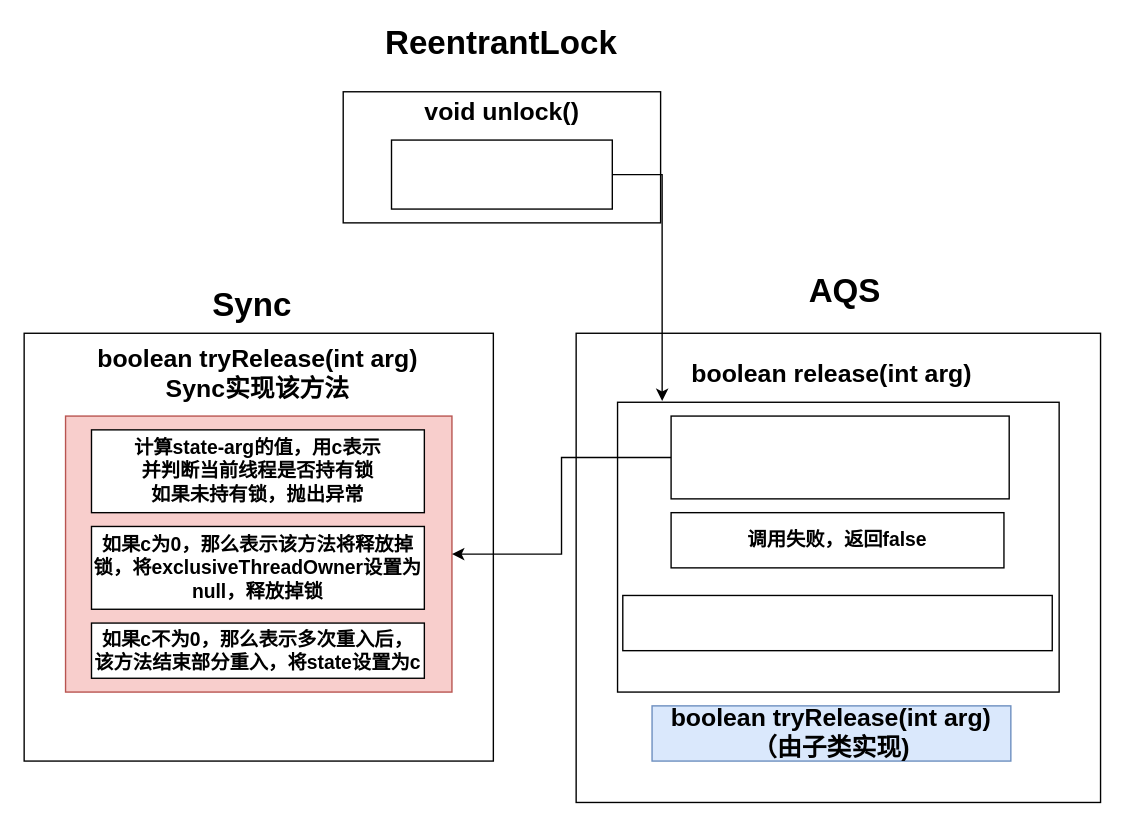
This 1125x827 diagram has some shape labels left out. The shapes that lost their labels are listed below. From the top down, each one's centre as x and y in pixels, then its label:
(x=501, y=174): sync.release(1)
(x=839, y=457): 调用 tryRelease(arg)(由子类实现)
(x=836, y=622): 调用成功,成功释放锁 通过 LockSupport.unpark() 将后继节点唤醒
